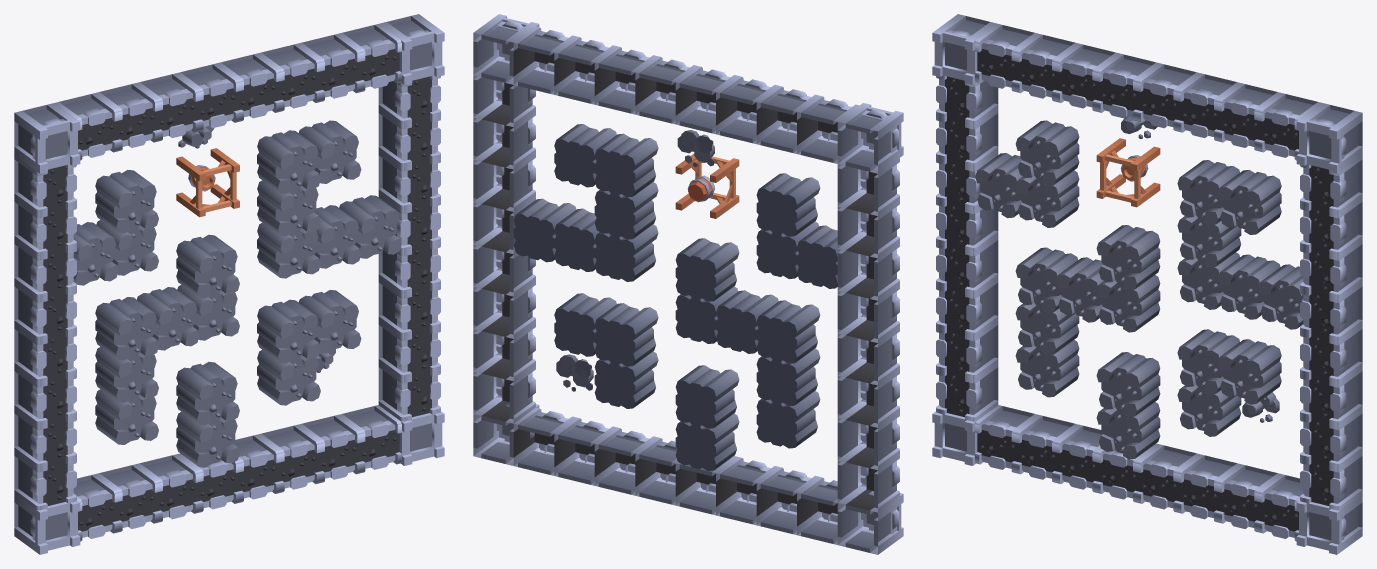
File: FinalField.obj
3 views of the same model, side by side, from view 1: azimuth 30°, elevation 25°; view 2: azimuth 150°, elevation 25°; view 3: azimuth 330°, elevation 25° (orthographic).
Parts seen in each view (by area): view 1: FinalField; view 2: FinalField; view 3: FinalField.
Part boxes in pixels (x1,y1,x2,y2): FinalField: (14,14,444,554); FinalField: (473,14,903,554); FinalField: (932,14,1362,554).
Size of the model in its own units: 50 by 50 by 5.5.
6 materials, 6 textured.
